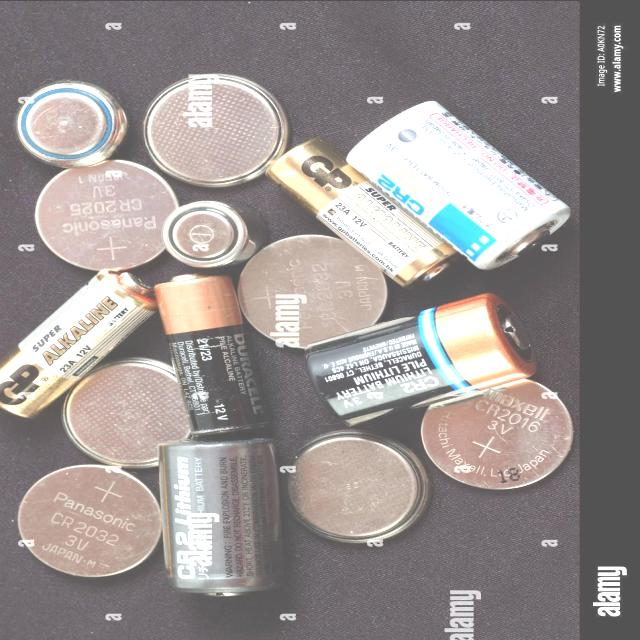AA: (261, 131, 462, 287), (0, 268, 158, 422), (150, 269, 275, 442)
COIN: (276, 425, 434, 546), (232, 232, 389, 352), (418, 376, 577, 493), (140, 72, 295, 188), (16, 462, 167, 579), (31, 159, 182, 273), (62, 357, 193, 469), (160, 197, 253, 269)
